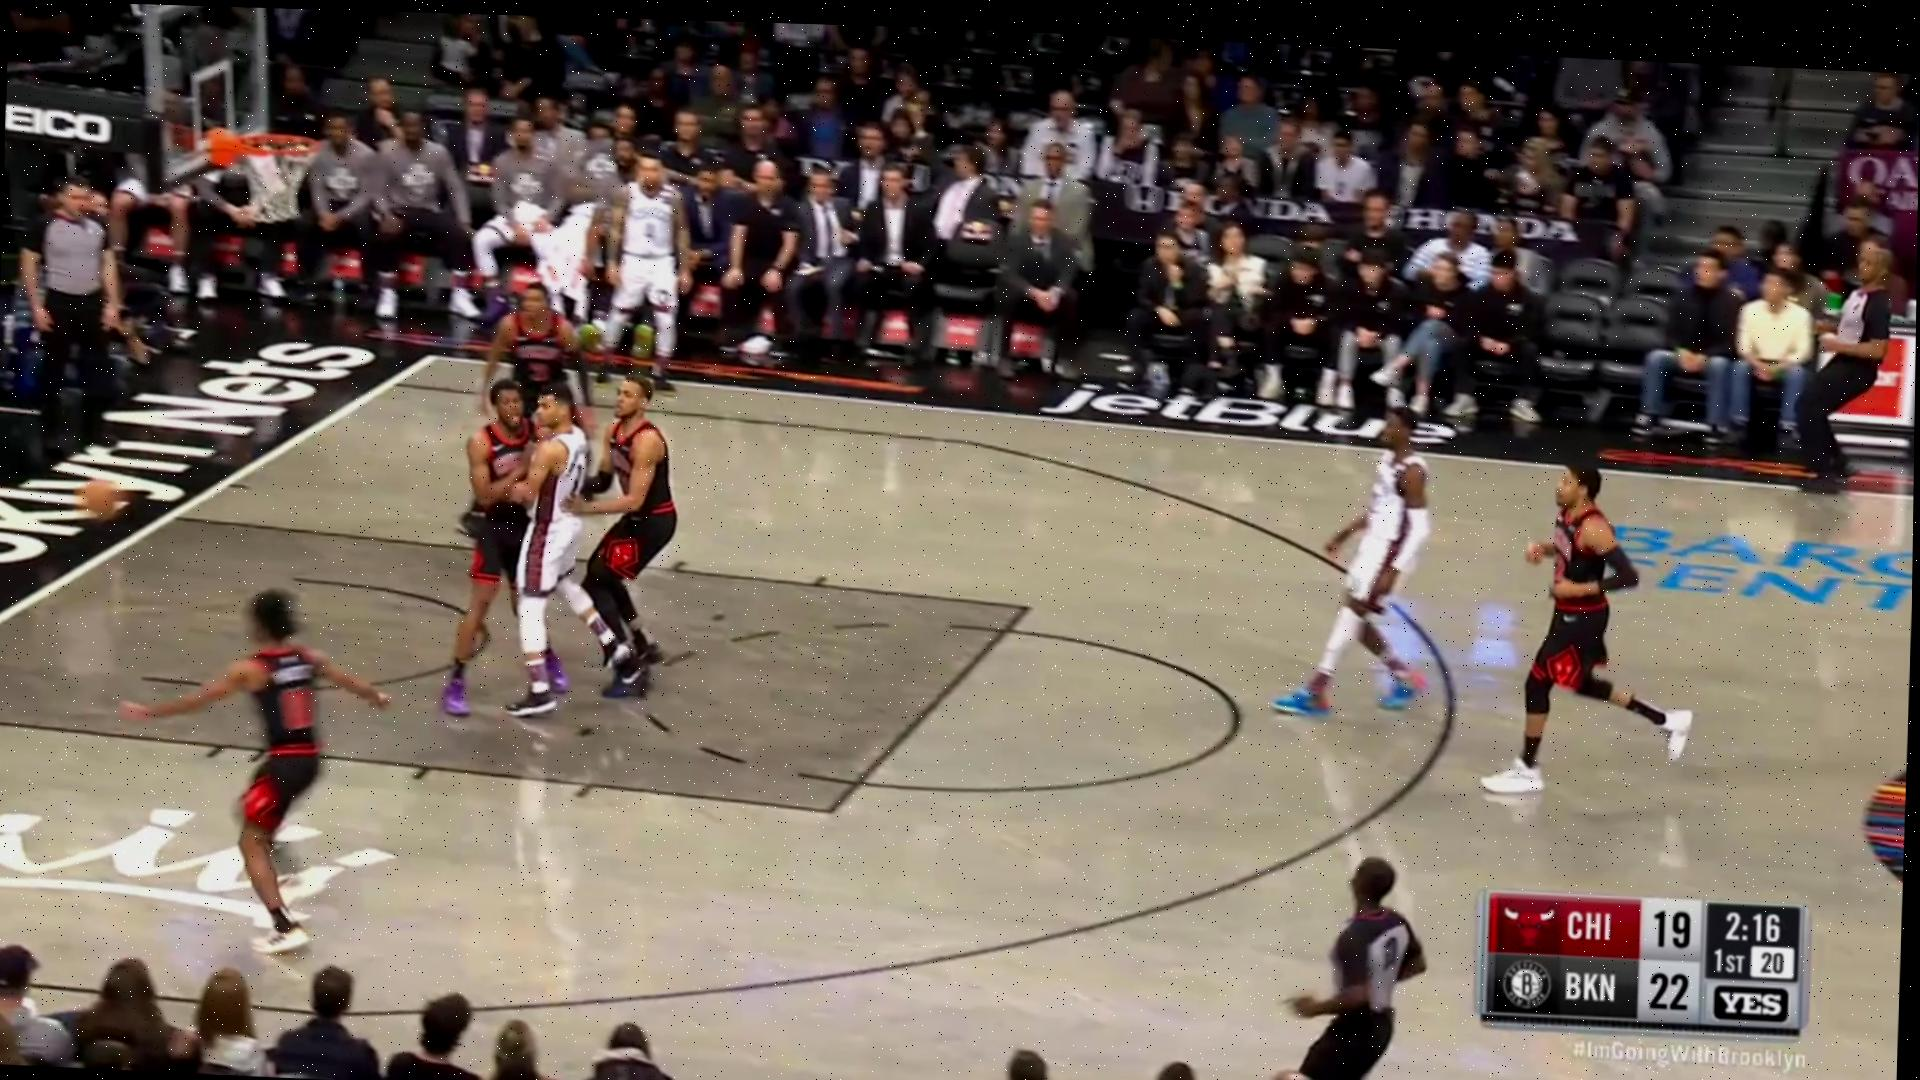no_foul: (463, 373, 595, 705)
